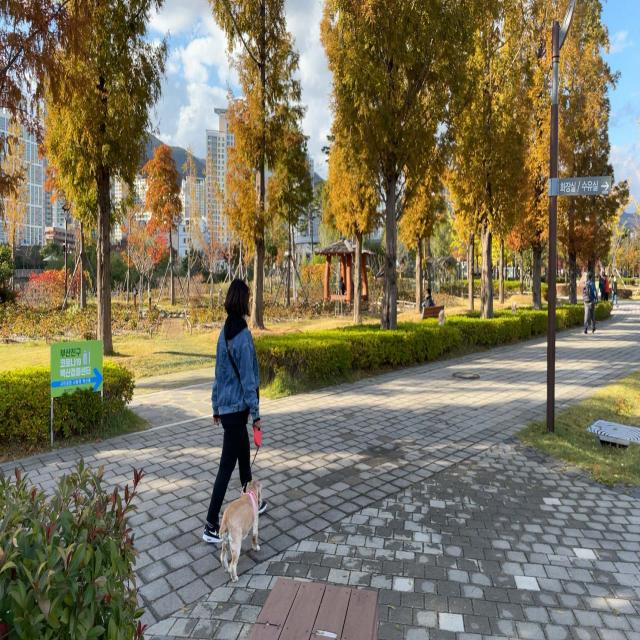Leashed_Dog: (219, 418, 261, 582)
